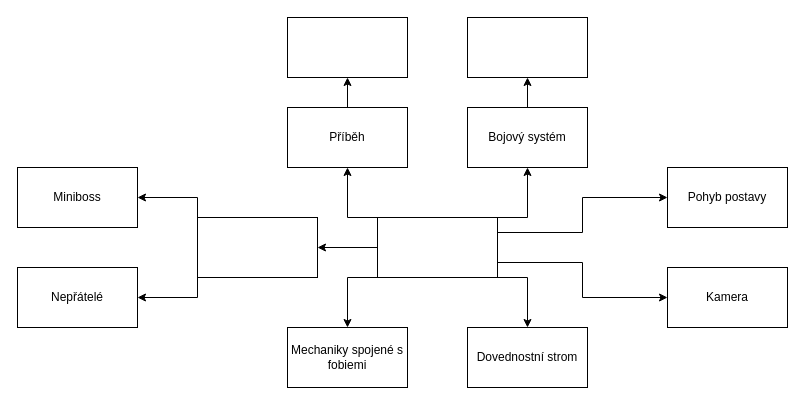
Image size: 805x405. Some labels were removed from this diagram. The shapes that lost their labels are listed below. From the top down, each one's centre as x and y in pixels, then its label:
At point (347, 47): "Dějová linka".
At point (527, 47): "Ukazatel stavu životů".
At point (257, 247): "Prostředí".
At point (437, 247): "Inner Shadows".
